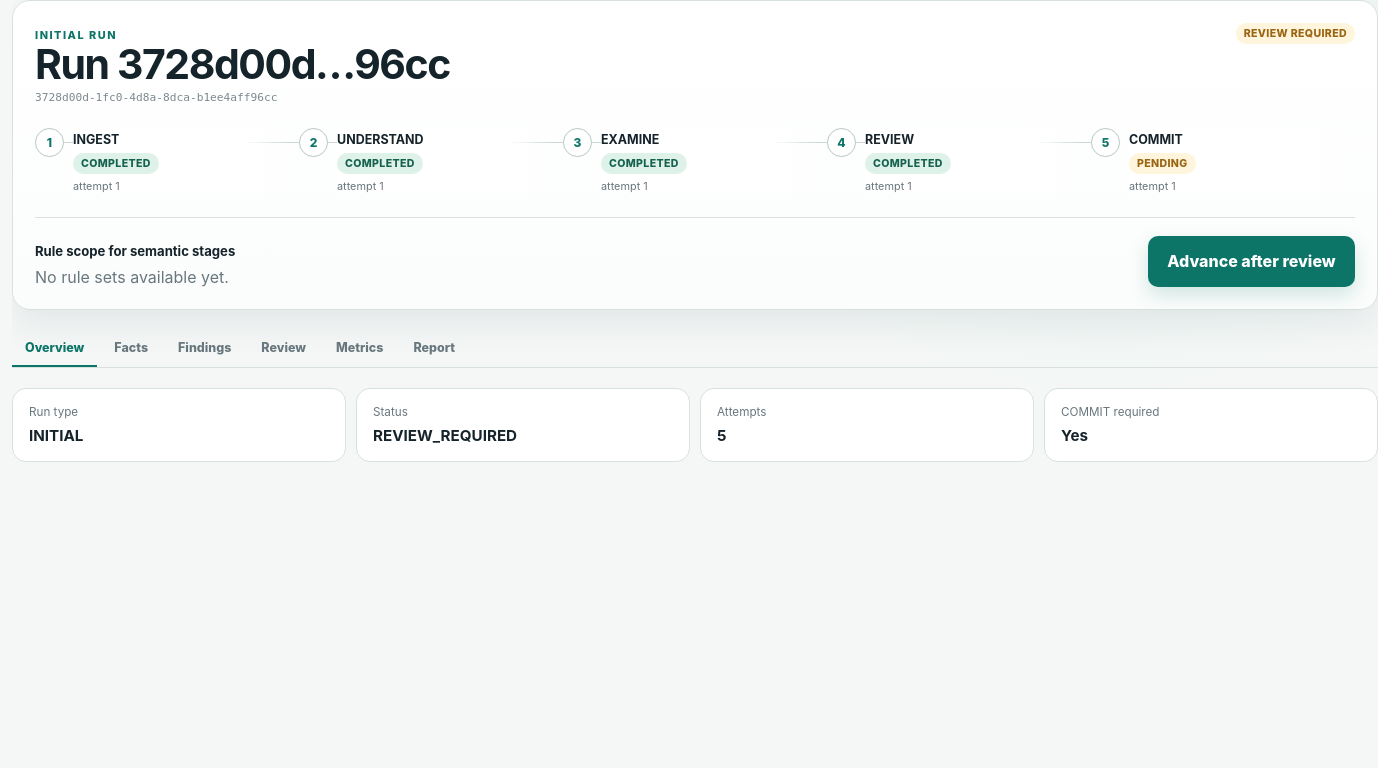
Test: reconciles a stale manual advance when the worker already completed COMMIT
This screenshot has width=1378, height=768.
What coordinates should you click on to do the following:
click the button "Advance after review"
I would click on:
 (1251, 261)
Its box is x1=1148 y1=236 x2=1355 y2=287.
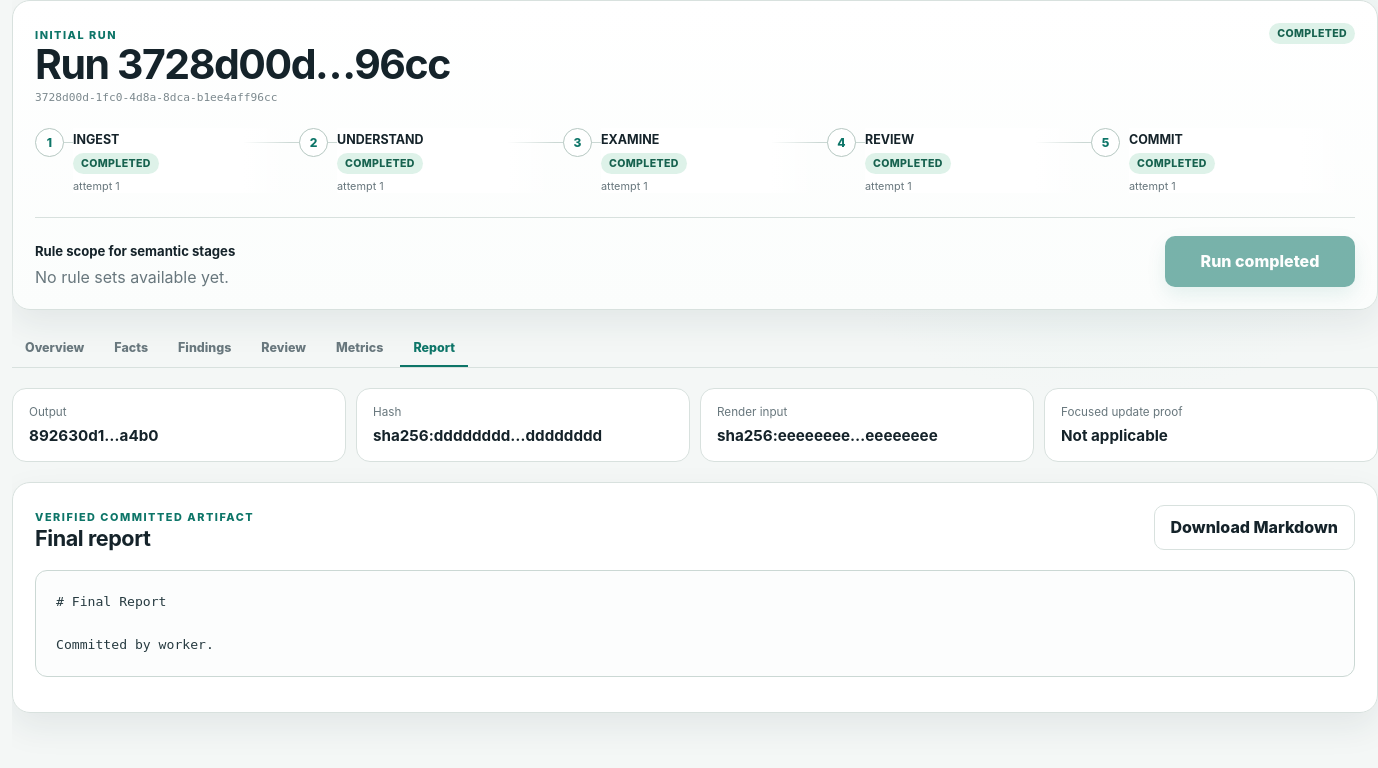
Check: the button "Run completed" is disabled, box x1=1165 y1=236 x2=1355 y2=287
Check: the heading "Final report" is shown, box x1=35 y1=525 x2=150 y2=551
Check: the text "# Final Report Committed by worker." is shown, box x1=35 y1=570 x2=1355 y2=677
